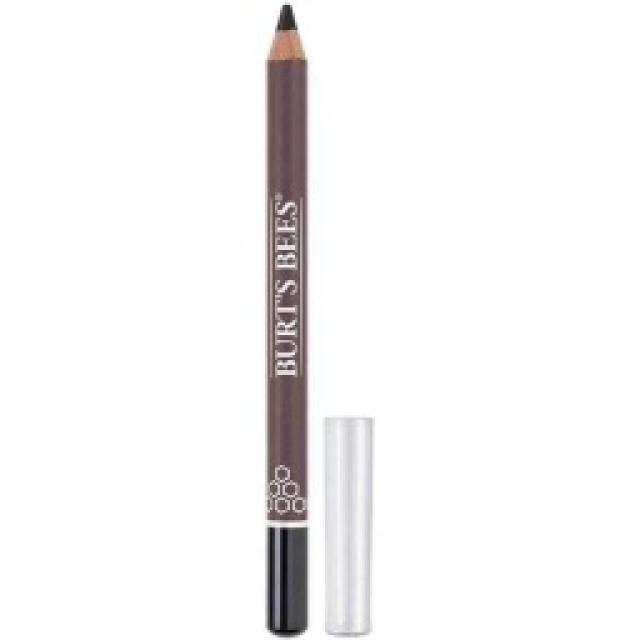pencil: (260, 0, 310, 635)
